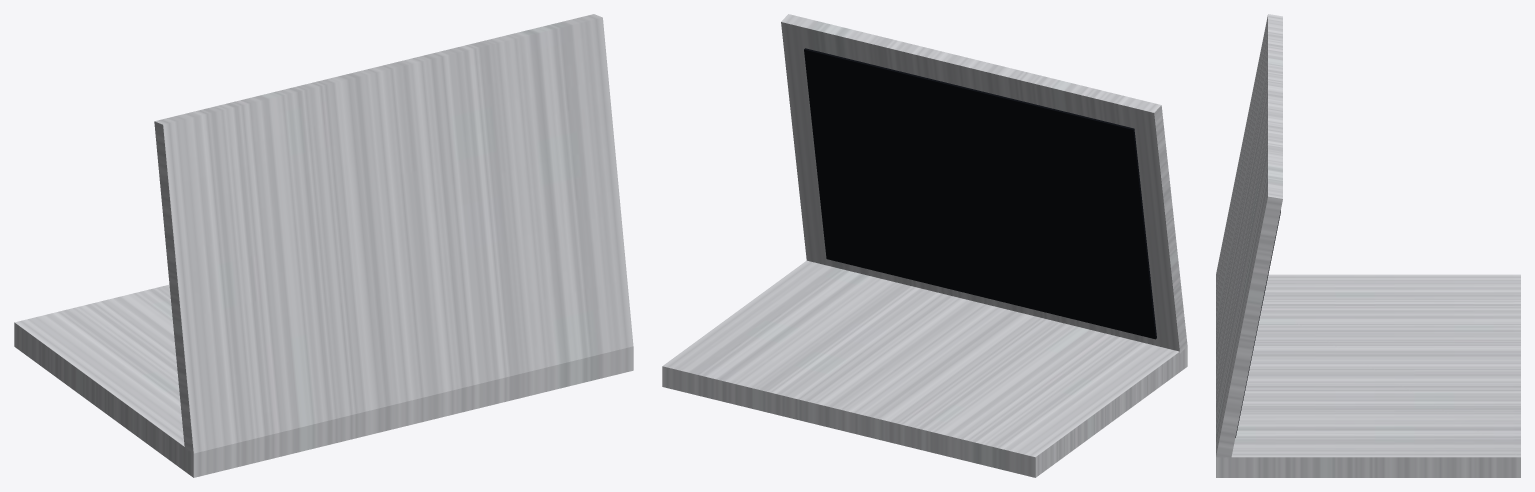
Rendered from loot_laptop.obj.
The picture shows the model from 3 angles, left to right: view 1: azimuth 30°, elevation 25°; view 2: azimuth 150°, elevation 25°; view 3: azimuth 270°, elevation 25°; orthographic projection. The views are drawn at different scales.
Visible parts, largest first — view 1: loot_laptop; view 2: loot_laptop; view 3: loot_laptop.
Part boxes in pixels (x1,y1,x2,y2): loot_laptop: (14, 14, 633, 477); loot_laptop: (662, 14, 1187, 477); loot_laptop: (1216, 14, 1520, 477).
Bounding box in the file's own units: 0.34 × 0.2443 × 0.24.
2 materials, 1 textured.
